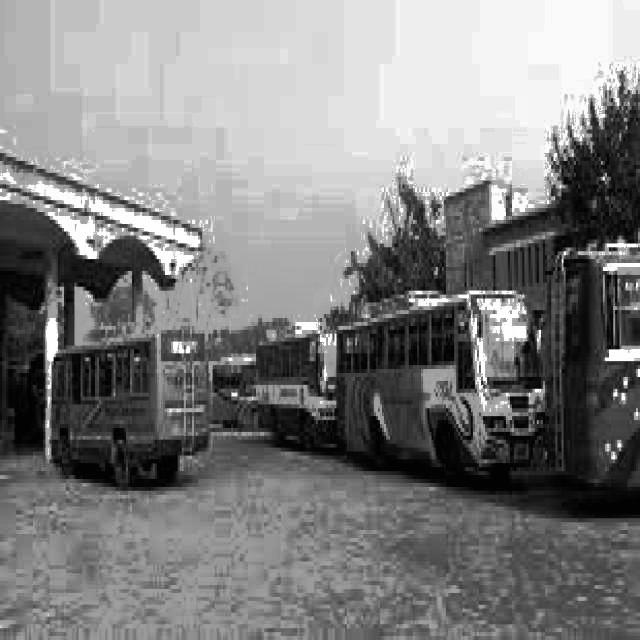Bus: (337, 279, 547, 494), (46, 318, 210, 494), (549, 215, 640, 525), (245, 309, 340, 451)
